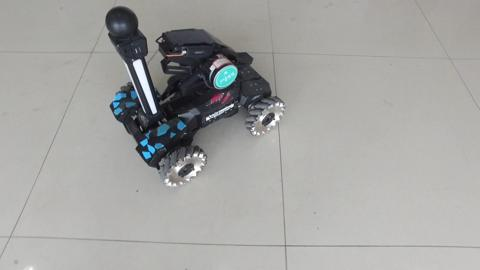chariot: (95, 4, 257, 177)
